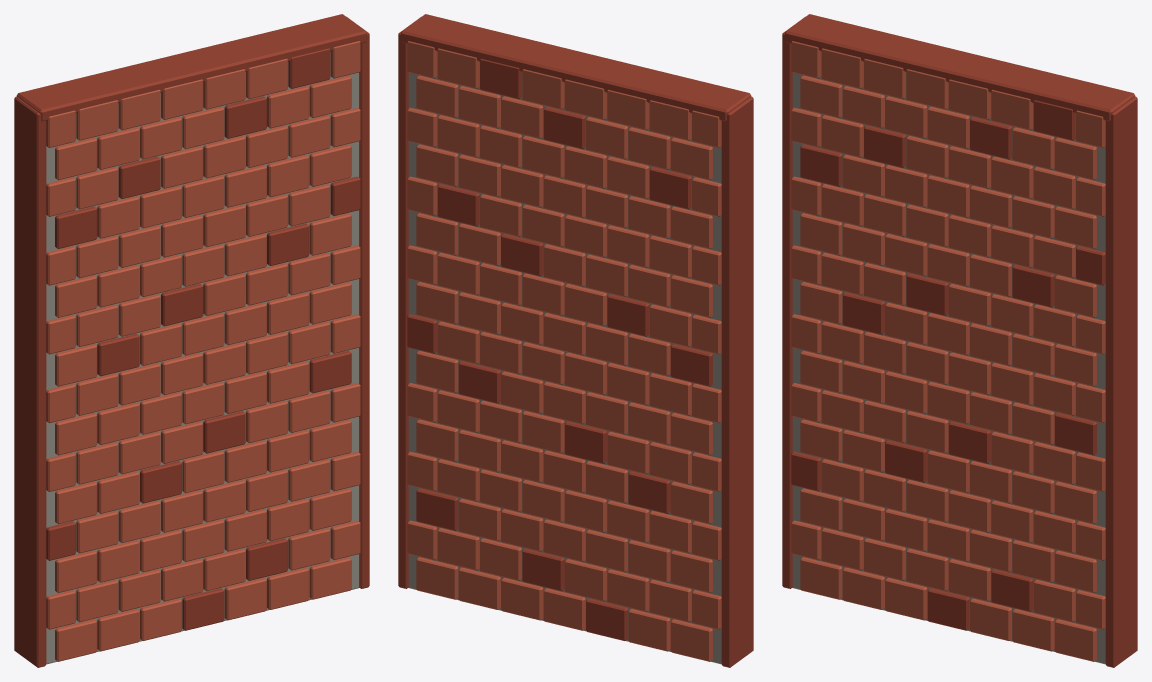
File: TallBrickWall.glb
3 renders of one model, left to right at view 1: azimuth 30°, elevation 25°; view 2: azimuth 150°, elevation 25°; view 3: azimuth 330°, elevation 25°, orthographic.
Parts seen in each view (by area): view 1: StaticVisual; view 2: StaticVisual; view 3: StaticVisual.
Boxes of the visible parts, <box> form: StaticVisual: <box>14,14,369,667</box>; StaticVisual: <box>398,14,753,667</box>; StaticVisual: <box>782,14,1137,667</box>.
Bounding box in the file's own units: 6.28 × 10.05 × 0.85.
